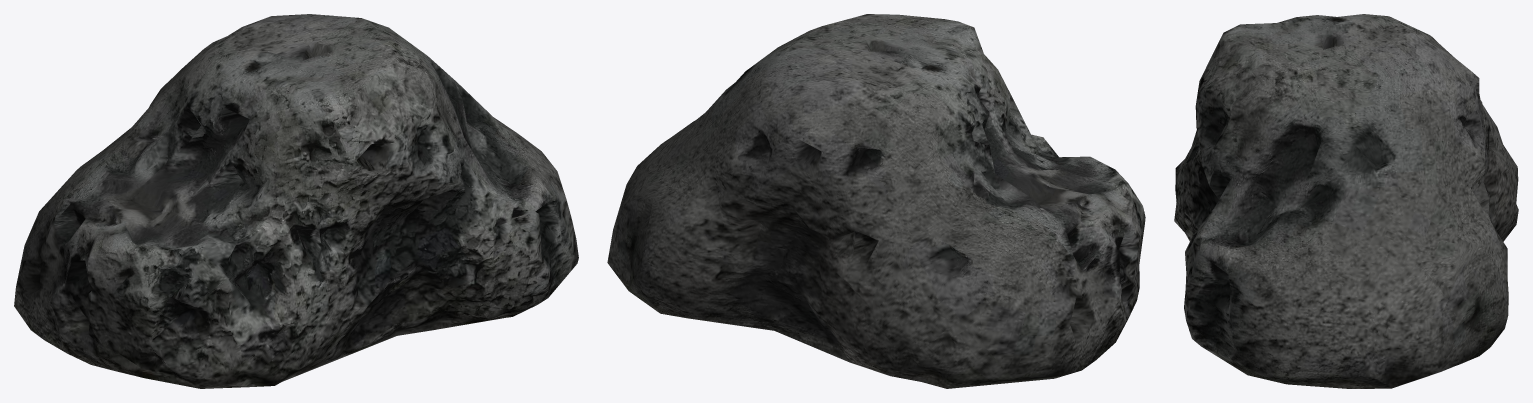
The model's file is ash-cairn-mass.glb.
3 views of the same model, side by side, from view 1: azimuth 30°, elevation 25°; view 2: azimuth 150°, elevation 25°; view 3: azimuth 270°, elevation 25° (orthographic). The views are drawn at different scales.
Parts seen in each view (by area): view 1: tripo_node_37efedcf-673a-4949-a9a3-3608ccafb31b; view 2: tripo_node_37efedcf-673a-4949-a9a3-3608ccafb31b; view 3: tripo_node_37efedcf-673a-4949-a9a3-3608ccafb31b.
Part boxes in pixels (x1,y1,x2,y2): tripo_node_37efedcf-673a-4949-a9a3-3608ccafb31b: [14, 14, 578, 388]; tripo_node_37efedcf-673a-4949-a9a3-3608ccafb31b: [607, 14, 1145, 388]; tripo_node_37efedcf-673a-4949-a9a3-3608ccafb31b: [1174, 14, 1518, 388].
Size of the model in its own units: 1 by 0.4825 by 0.6209.
1 material, 1 textured.
